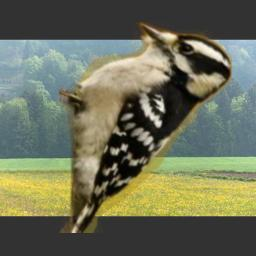Woodpecker: (59, 22, 232, 233)
